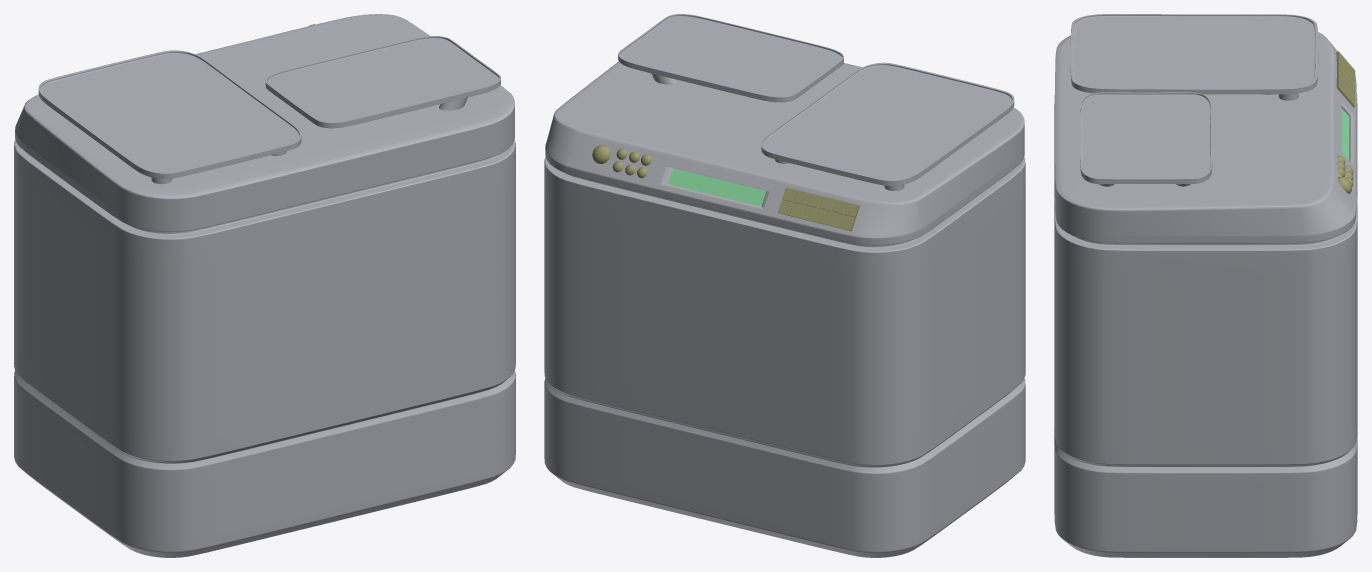
Rendered from Impresora_high.fbx.
3 renders of one model, left to right at view 1: azimuth 30°, elevation 25°; view 2: azimuth 150°, elevation 25°; view 3: azimuth 270°, elevation 25°, orthographic. The views are drawn at different scales.
Parts seen in each view (by area): view 1: CuerpoImpresora_high, Bandeja2_high, Bandeja1_high; view 2: CuerpoImpresora_high, Bandeja2_high, Bandeja1_high, Botones_high; view 3: CuerpoImpresora_high, Bandeja2_high, Bandeja1_high, Botones_high.
Part boxes in pixels (x1=…): CuerpoImpresora_high: x1=14, y1=14, x2=515, y2=557; Bandeja2_high: x1=38, y1=50, x2=301, y2=178; Bandeja1_high: x1=265, y1=36, x2=500, y2=128; CuerpoImpresora_high: x1=544, y1=61, x2=1025, y2=557; Bandeja2_high: x1=761, y1=62, x2=1014, y2=185; Bandeja1_high: x1=618, y1=14, x2=843, y2=102; Botones_high: x1=778, y1=187, x2=859, y2=231; CuerpoImpresora_high: x1=1054, y1=32, x2=1357, y2=557; Bandeja2_high: x1=1070, y1=14, x2=1318, y2=94; Bandeja1_high: x1=1080, y1=92, x2=1212, y2=184; Botones_high: x1=1336, y1=51, x2=1355, y2=107.
Bounding box in the file's own units: 2.84 × 2.7 × 1.97.
